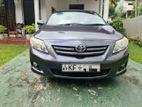car: (24, 8, 133, 87)
